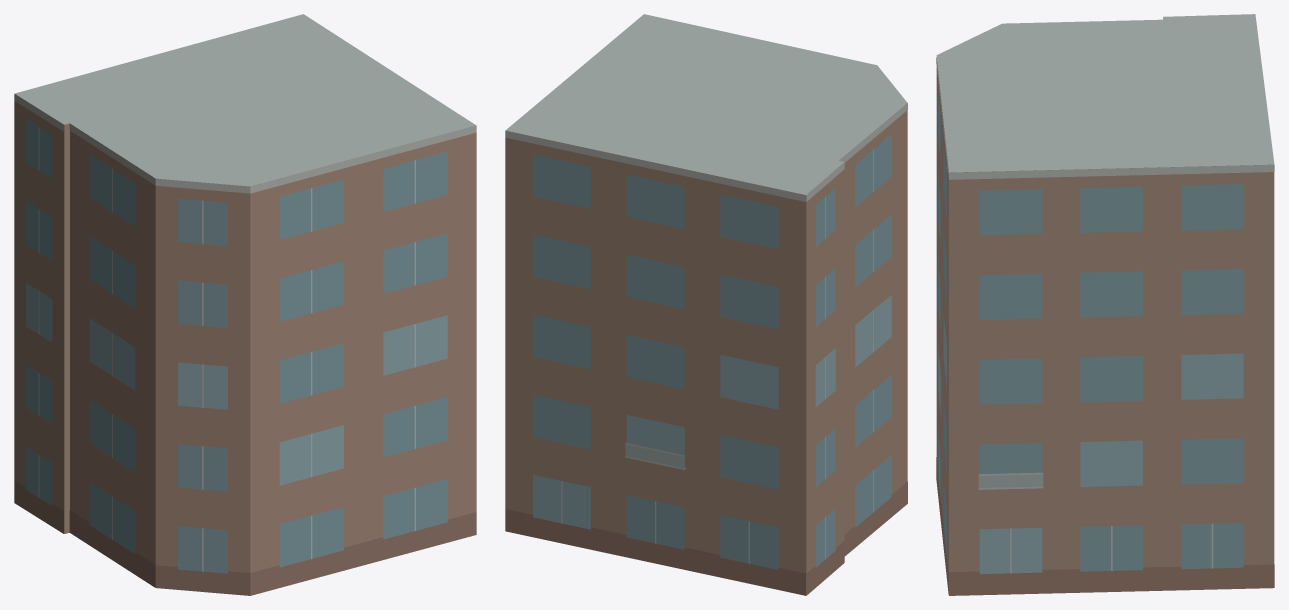
The model's file is survey-upis-32954667.glb.
3 renders of one model, left to right at view 1: azimuth 30°, elevation 25°; view 2: azimuth 150°, elevation 25°; view 3: azimuth 270°, elevation 25°, orthographic. The views are drawn at different scales.
Parts seen in each view (by area): view 1: survey-upis-32954667.tmp; view 2: survey-upis-32954667.tmp; view 3: survey-upis-32954667.tmp.
Boxes of the visible parts, x1,y1,x2,y2 form: survey-upis-32954667.tmp: (14,14,476,595); survey-upis-32954667.tmp: (505,14,907,595); survey-upis-32954667.tmp: (936,14,1274,595).
Size of the model in its own units: 11.25 by 14 by 10.14.
